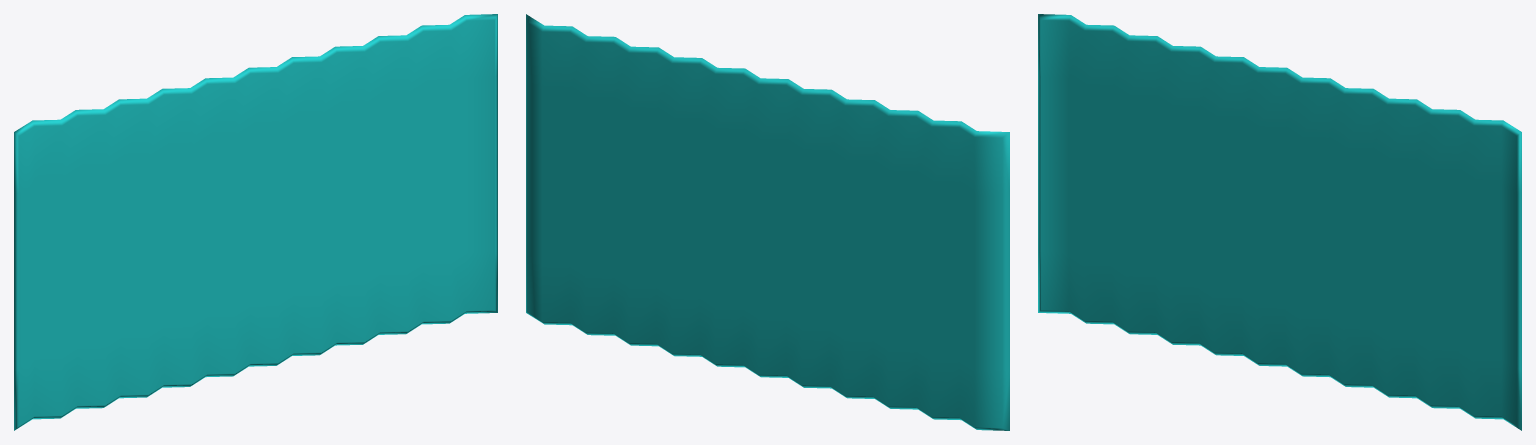
The model's file is Cortina.fbx.
3 views of the same model, side by side, from view 1: azimuth 30°, elevation 25°; view 2: azimuth 150°, elevation 25°; view 3: azimuth 330°, elevation 25° (orthographic).
Visible parts, largest first — view 1: pPlane1; view 2: pPlane1; view 3: pPlane1.
Boxes of the visible parts, x1,y1,x2,y2 form: pPlane1: [14, 14, 497, 430]; pPlane1: [526, 14, 1009, 430]; pPlane1: [1038, 14, 1521, 430].
Bounding box in the file's own units: 1.75 × 1.03 × 0.0662.
